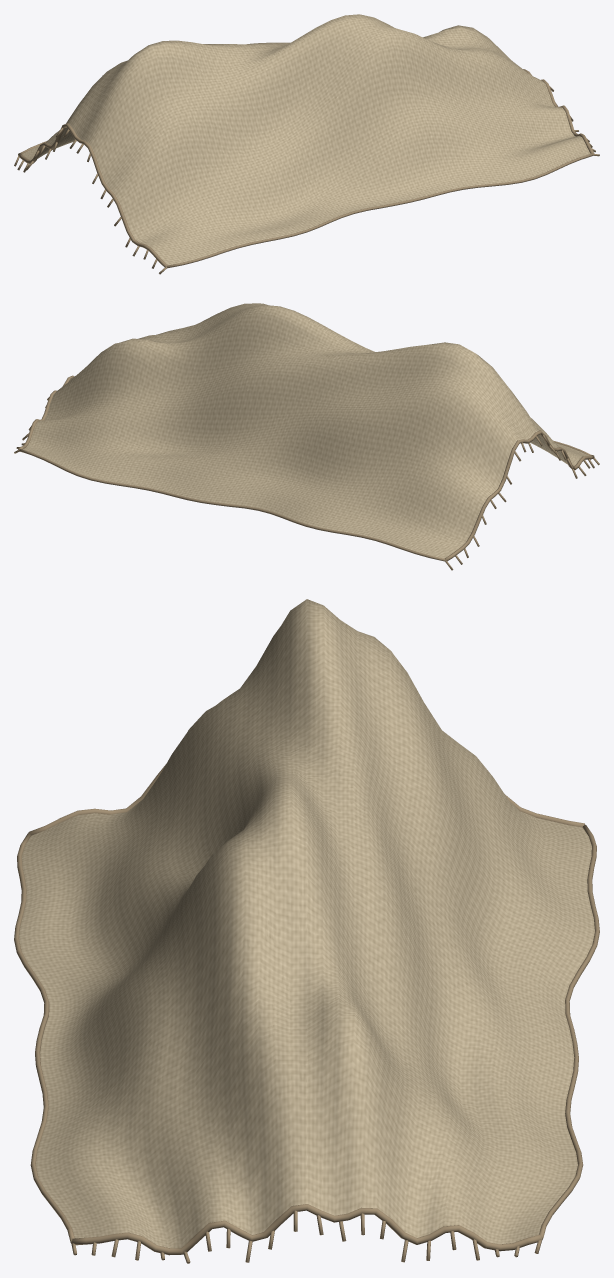
The model's file is thin-blanket.glb.
The picture shows the model from 3 angles, top to bottom: view 1: azimuth 30°, elevation 25°; view 2: azimuth 150°, elevation 25°; view 3: azimuth 270°, elevation 25°; orthographic projection. The views are drawn at different scales.
Parts seen in each view (by area): view 1: draped wool, stitched hems; view 2: draped wool, stitched hems; view 3: draped wool, stitched hems.
Boxes of the visible parts, <box> form: draped wool: <box>22,14,590,265</box>; stitched hems: <box>14,69,599,274</box>; draped wool: <box>23,303,589,558</box>; stitched hems: <box>14,375,599,570</box>; draped wool: <box>19,599,594,1248</box>; stitched hems: <box>14,764,599,1263</box>.
Size of the model in its own units: 5.06 by 1.62 by 2.85.
2 materials, 1 textured.
